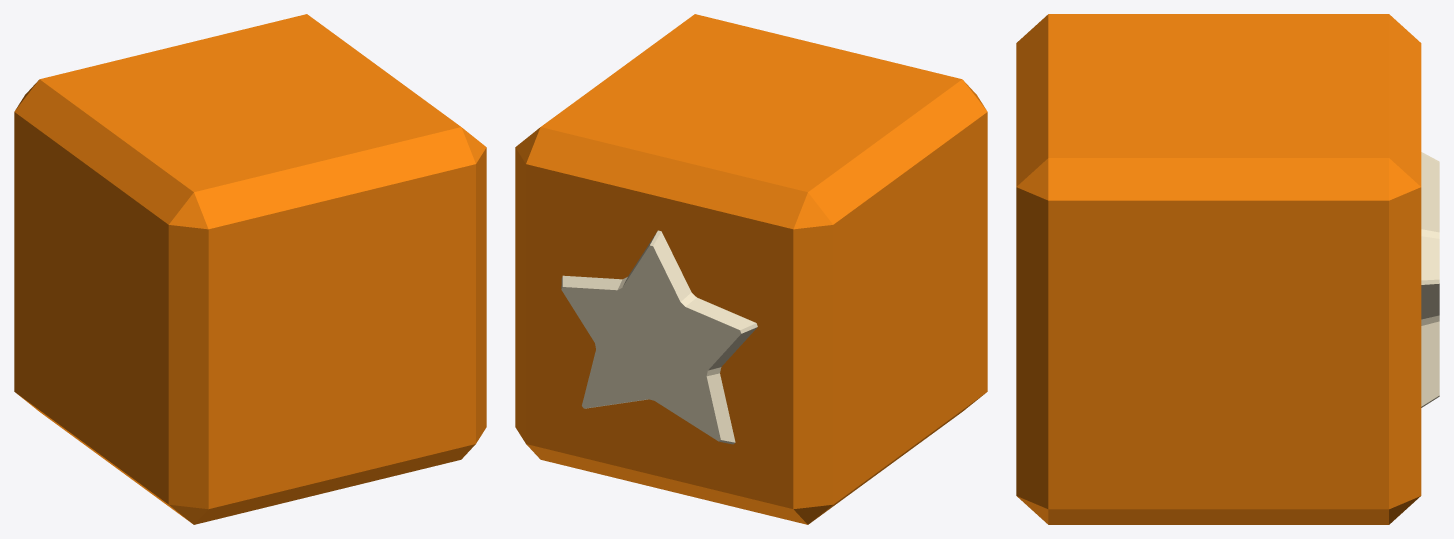
3 renders of one model, left to right at view 1: azimuth 30°, elevation 25°; view 2: azimuth 150°, elevation 25°; view 3: azimuth 270°, elevation 25°, orthographic. The views are drawn at different scales.
Visible parts, largest first — view 1: Box1; view 2: Box1; view 3: Box1.
Part boxes in pixels (x1,y1,x2,y2): Box1: [14, 14, 486, 524]; Box1: [515, 14, 987, 524]; Box1: [1016, 14, 1439, 524].
Size of the model in its own units: 2 by 2 by 2.09.
